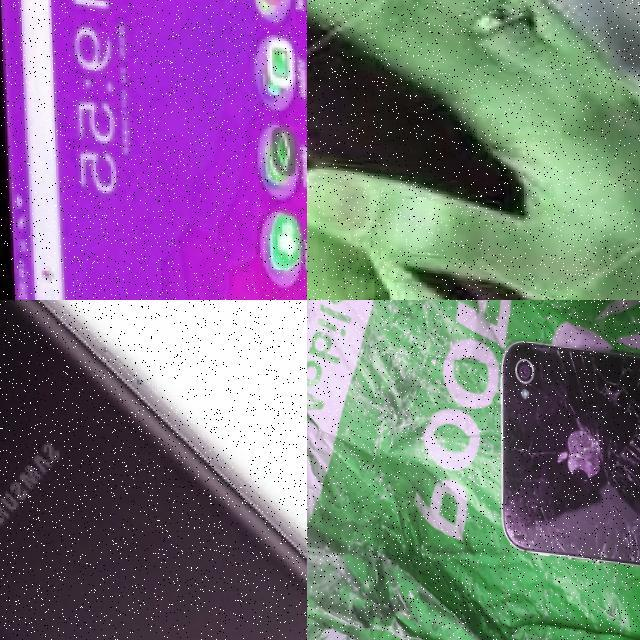screen crack: (493, 331, 640, 579)
